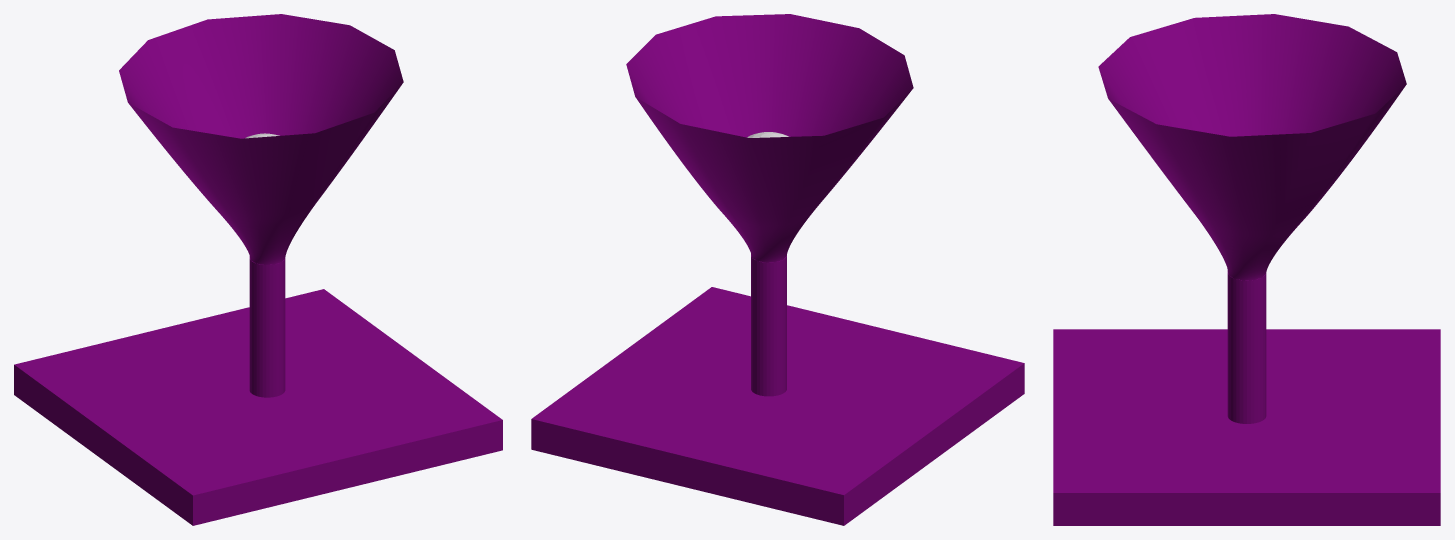
The model's file is light.glb.
The picture shows the model from 3 angles, left to right: view 1: azimuth 30°, elevation 25°; view 2: azimuth 150°, elevation 25°; view 3: azimuth 270°, elevation 25°; orthographic projection. The views are drawn at different scales.
Visible parts, largest first — view 1: Cube, NurbsPath, Cylinder; view 2: Cube, NurbsPath, Cylinder; view 3: Cube, NurbsPath, Cylinder.
Part boxes in pixels (x1=…): Cube: x1=14, y1=289, x2=502, y2=525; NurbsPath: x1=119, y1=14, x2=403, y2=266; Cylinder: x1=249, y1=257, x2=285, y2=397; Cube: x1=531, y1=287, x2=1024, y2=525; NurbsPath: x1=626, y1=14, x2=913, y2=262; Cylinder: x1=751, y1=254, x2=786, y2=396; Cube: x1=1053, y1=329, x2=1440, y2=525; NurbsPath: x1=1098, y1=14, x2=1406, y2=282; Cylinder: x1=1227, y1=272, x2=1266, y2=423.
Size of the model in its own units: 2 by 2.14 by 2.
